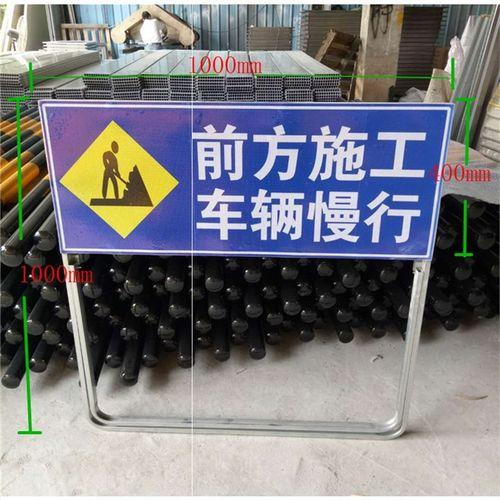sign: (40, 101, 440, 260)
